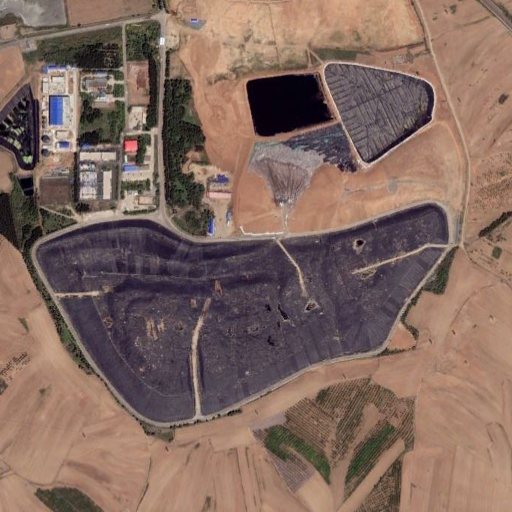lf: (34, 203, 451, 431)
